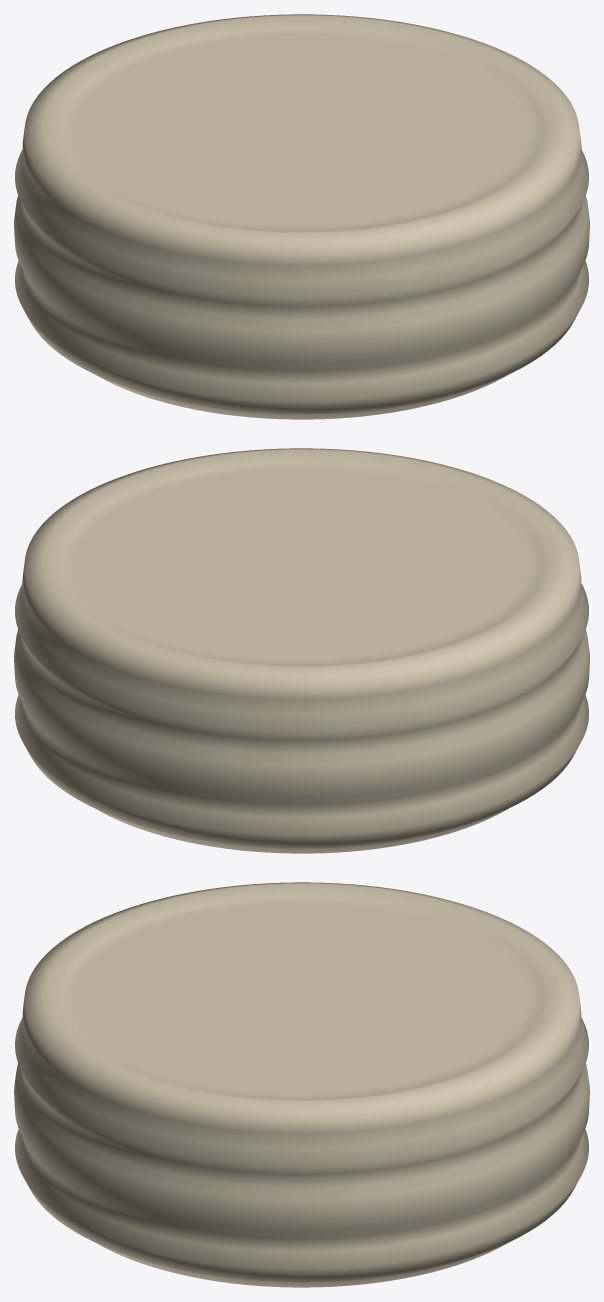
The model's file is cake.glb.
3 renders of one model, top to bottom at view 1: azimuth 30°, elevation 25°; view 2: azimuth 150°, elevation 25°; view 3: azimuth 270°, elevation 25°, orthographic.
Bounding box in the file's own units: 0.2558 × 0.0927 × 0.2558.
